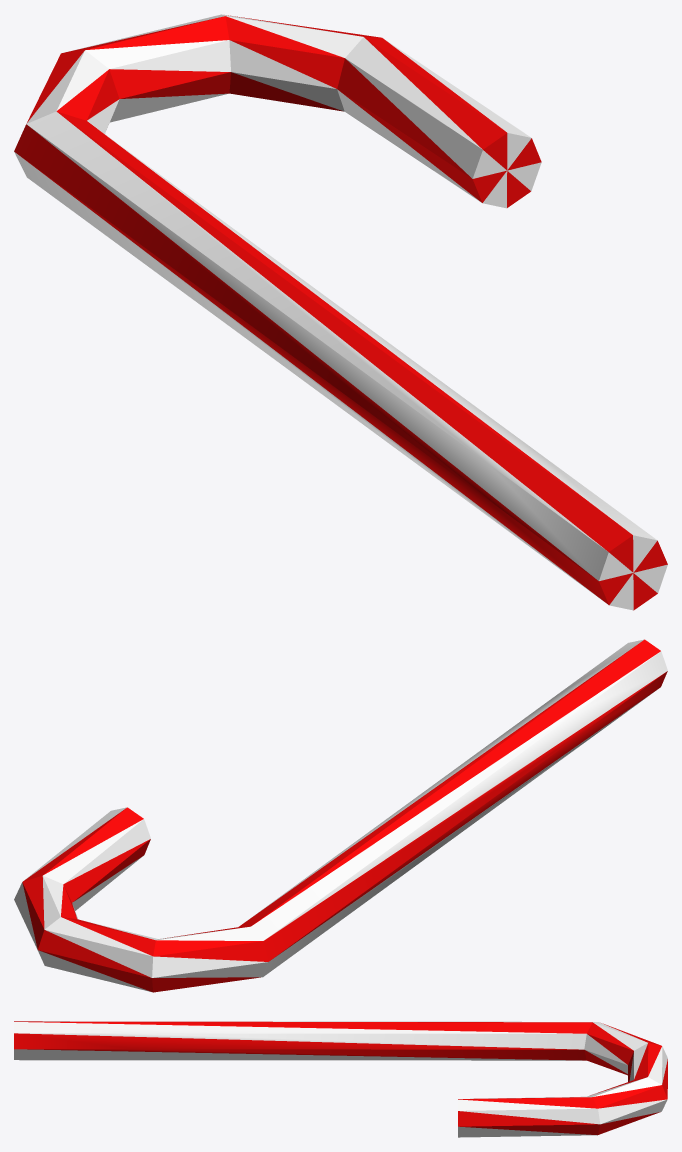
Rendered from Prop_Christmas_Candy_Cane_01.FBX.
3 views of the same model, one above another, from view 1: azimuth 30°, elevation 25°; view 2: azimuth 150°, elevation 25°; view 3: azimuth 270°, elevation 25° (orthographic). The views are drawn at different scales.
Visible parts, largest first — view 1: Prop_Christmas_Candy_Cane_01; view 2: Prop_Christmas_Candy_Cane_01; view 3: Prop_Christmas_Candy_Cane_01.
Part boxes in pixels (x1,y1,x2,y2): Prop_Christmas_Candy_Cane_01: (14, 14, 667, 610); Prop_Christmas_Candy_Cane_01: (14, 639, 667, 992); Prop_Christmas_Candy_Cane_01: (14, 1021, 667, 1137).
Bounding box in the file's own units: 115 × 21.37 × 336.
